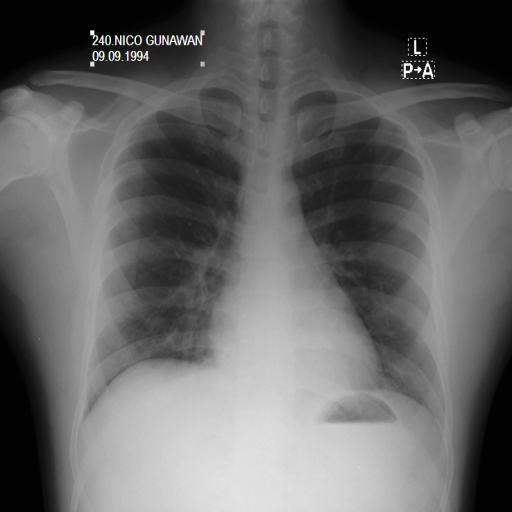normal: (68, 54, 454, 435)
